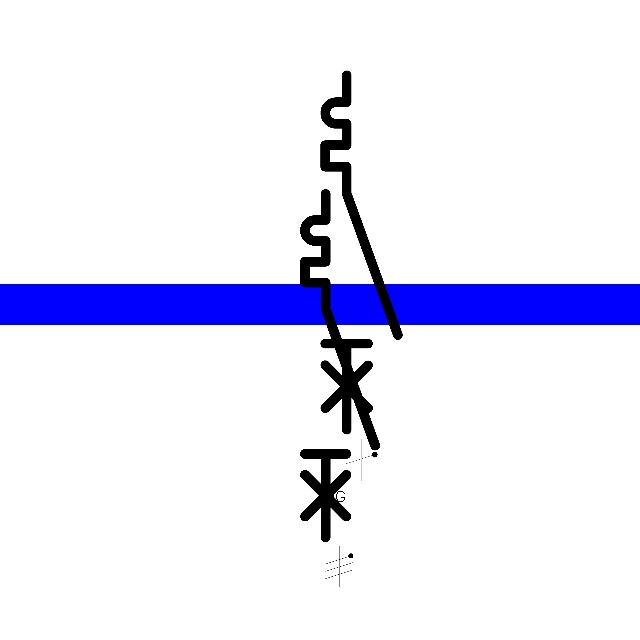interruptor_termomagnetico: (316, 66, 407, 439), (296, 185, 384, 546)
